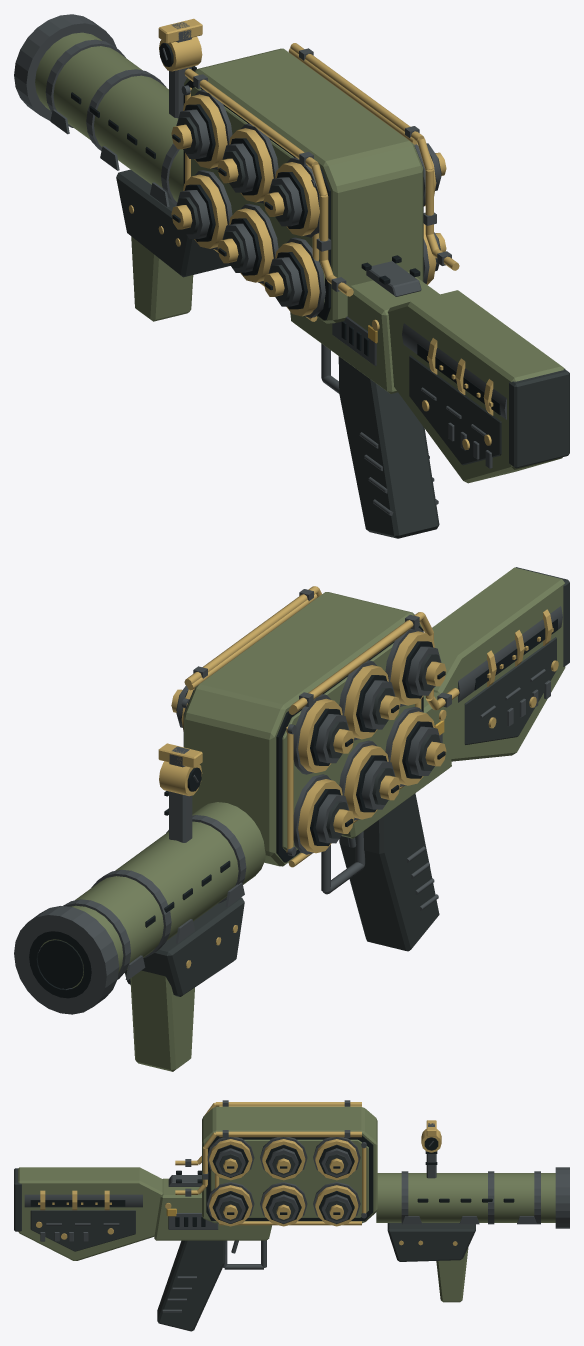
The model's file is grenade_4.glb.
3 views of the same model, one above another, from view 1: azimuth 30°, elevation 25°; view 2: azimuth 150°, elevation 25°; view 3: azimuth 270°, elevation 25° (orthographic). The views are drawn at different scales.
Visible parts, largest first — view 1: Weapon_grenade_v1; view 2: Weapon_grenade_v1; view 3: Weapon_grenade_v1.
Part boxes in pixels (<box>): Weapon_grenade_v1: <box>14,14,569,538</box>; Weapon_grenade_v1: <box>14,567,569,1071</box>; Weapon_grenade_v1: <box>14,1100,569,1331</box>.
Bounding box in the file's own units: 0.162 × 0.3222 × 0.775.
